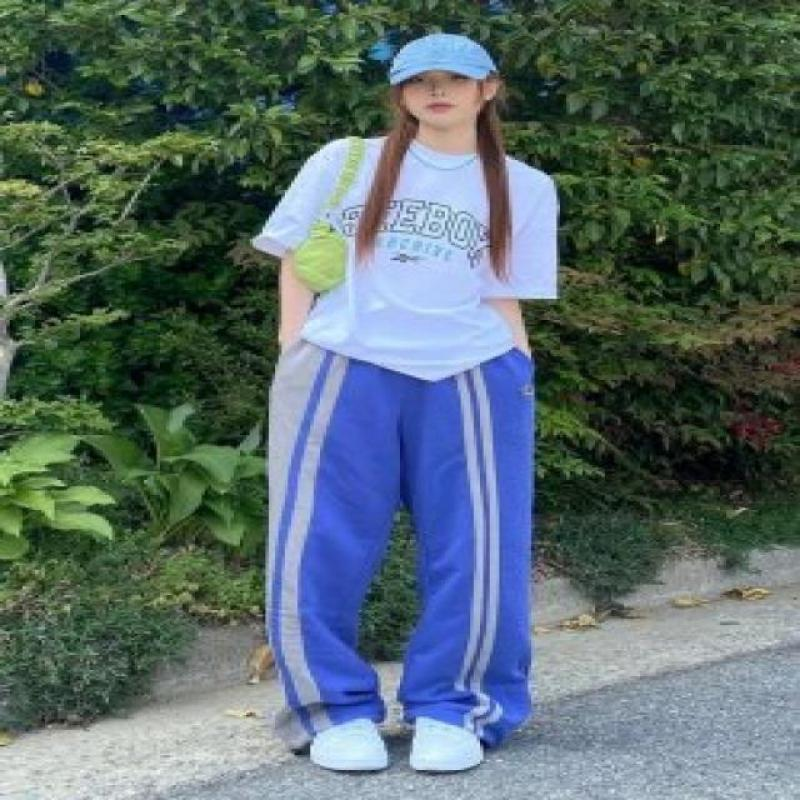short sleeve shirt: (250, 132, 561, 385)
trousers: (260, 339, 538, 756)
